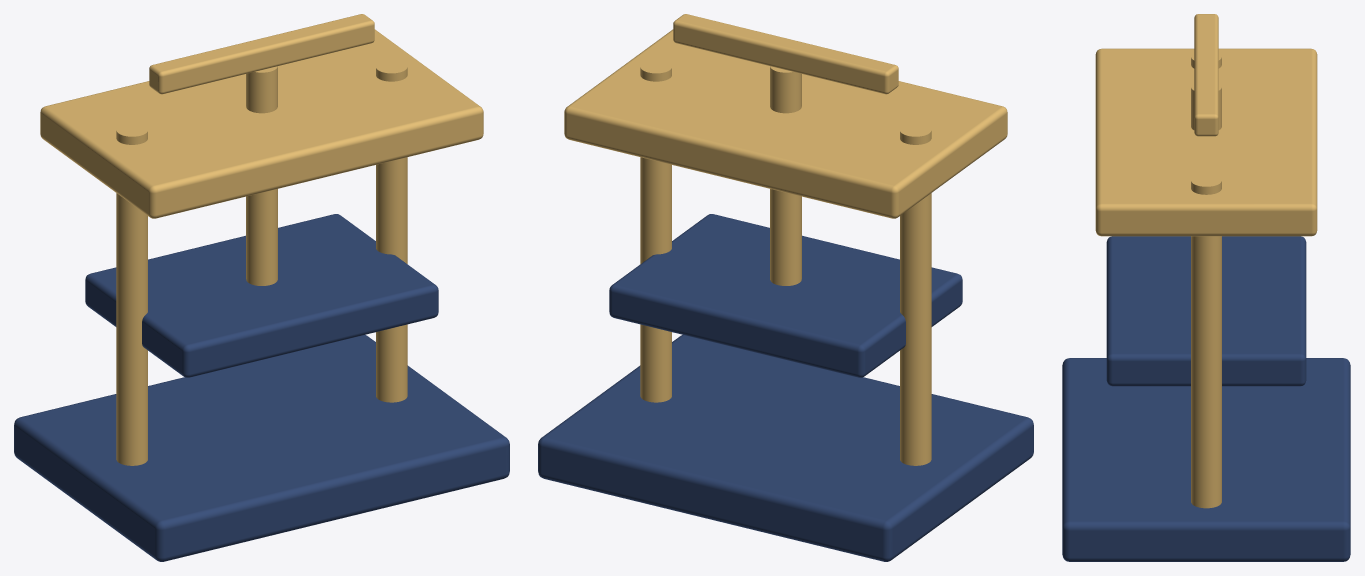
The model's file is arcane-academy-and-spell-trials-scroll-press-eb3fa89e__28298.glb.
3 views of the same model, side by side, from view 1: azimuth 30°, elevation 25°; view 2: azimuth 150°, elevation 25°; view 3: azimuth 270°, elevation 25° (orthographic). The views are drawn at different scales.
Parts seen in each view (by area): view 1: scroll-press; view 2: scroll-press; view 3: scroll-press.
Boxes of the visible parts, box(x1,y1,x2,y2) form: scroll-press: box(14, 14, 509, 561); scroll-press: box(538, 14, 1033, 561); scroll-press: box(1062, 14, 1350, 561).
Bounding box in the file's own units: 0.9 × 1.04 × 0.65.
